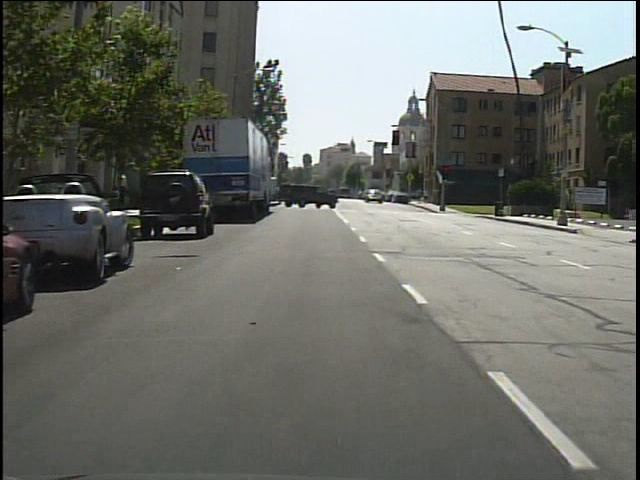person: (111, 161, 134, 209), (415, 188, 425, 210)
